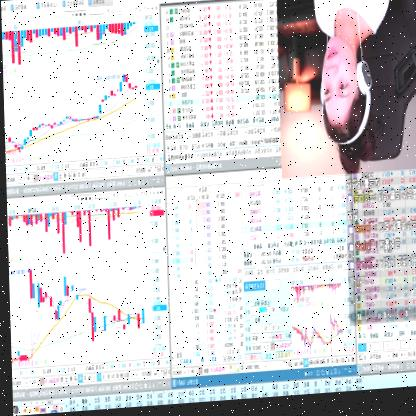streamer: (312, 0, 397, 181)
